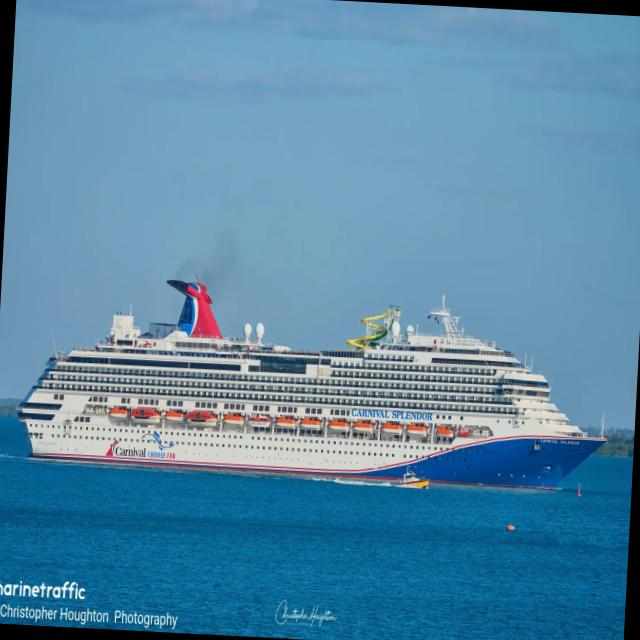Cruise: (17, 281, 605, 487)
